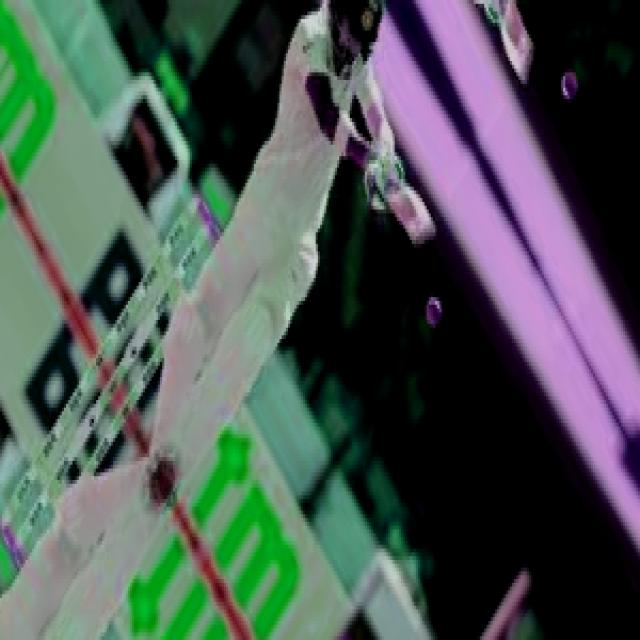toe: (410, 213, 440, 248)
